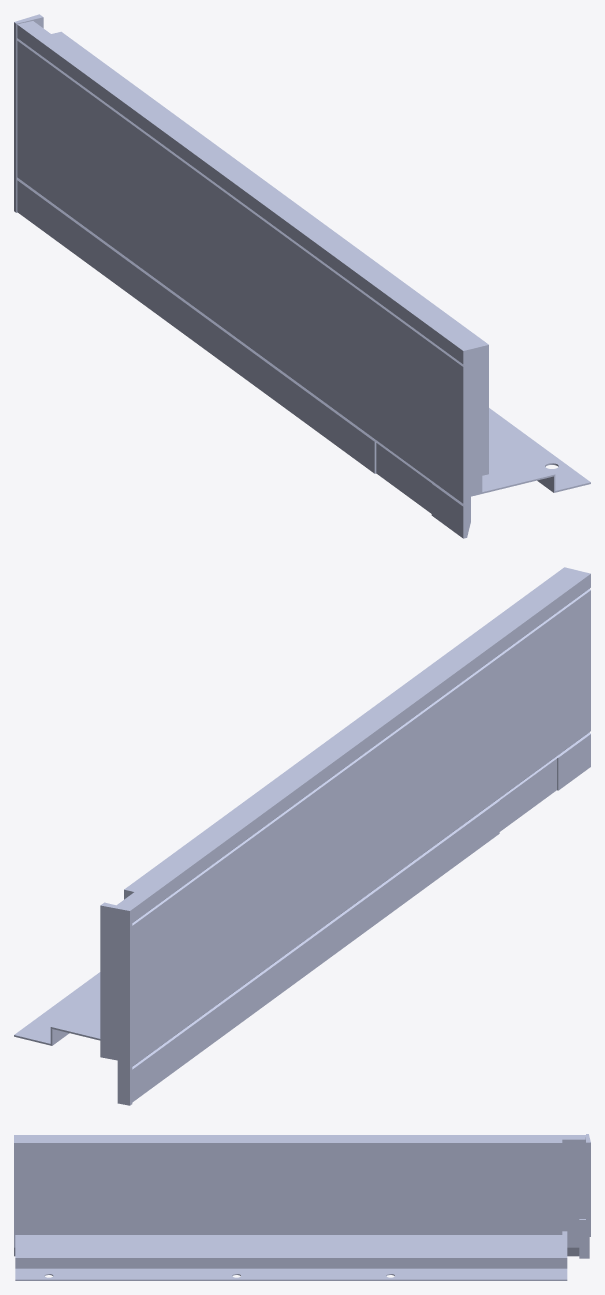
The model's file is lg-kava-M400-p.glb.
3 renders of one model, top to bottom at view 1: azimuth 30°, elevation 25°; view 2: azimuth 150°, elevation 25°; view 3: azimuth 270°, elevation 25°, orthographic. The views are drawn at different scales.
Visible parts, largest first — view 1: 44430088; view 2: 44430088; view 3: 44430088.
Part boxes in pixels (x1,y1,x2,y2): 44430088: (14, 14, 590, 538); 44430088: (14, 567, 590, 1105); 44430088: (14, 1134, 590, 1280).
Bounding box in the file's own units: 0.0653 × 0.0912 × 0.3935.
